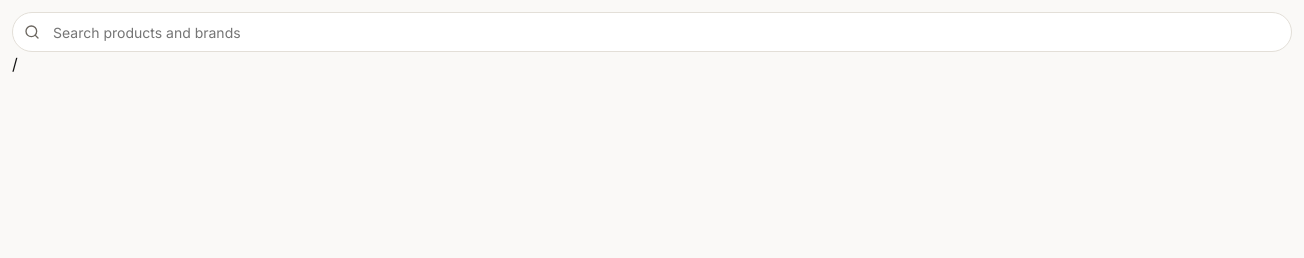
Test: SearchForm › moves through suggestions with the keyboard and opens the chosen product
This screenshot has width=1304, height=258.
In the dropdown labelled "Search products and brands": (652, 32) [12,12,1292,52], type "trail"
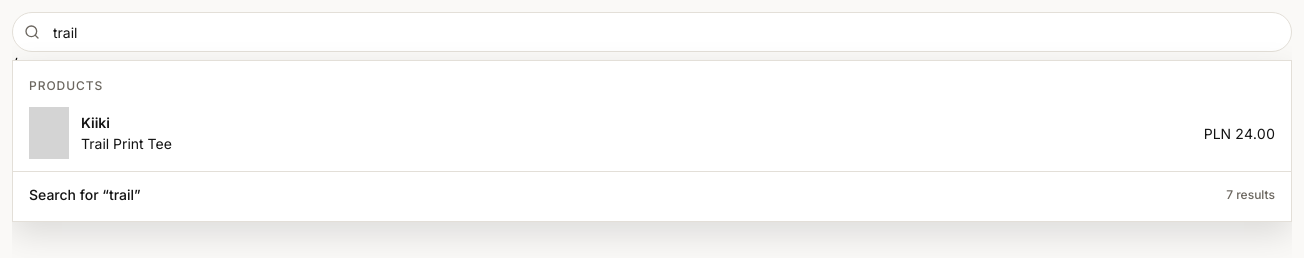
Result: the option "Kiiki Trail Print Tee PLN 24.00" is shown at [13,99,1291,167]
Note: no brand matches "trail": the product is the first option
Press ArrowDown in the dropdown named "Search products and brands", box [12,12,1292,52]
Submit the form from the dropdown named "Search products and brands", box [12,12,1292,52]
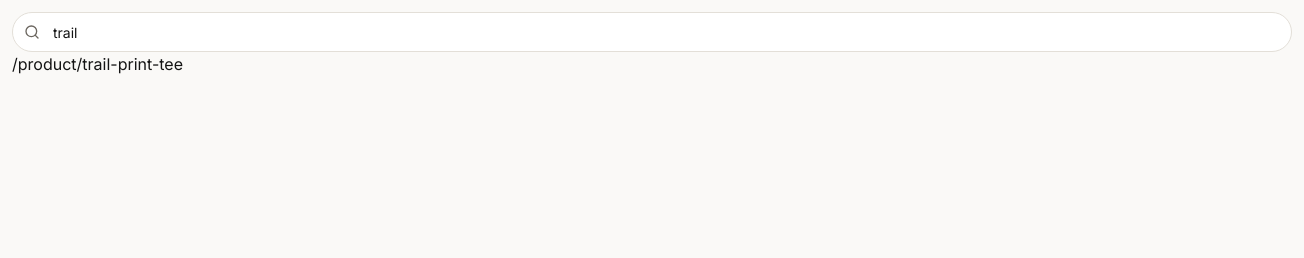
Result: the text named "location" reads "/product/trail-print-tee" at [12,54,183,74]
